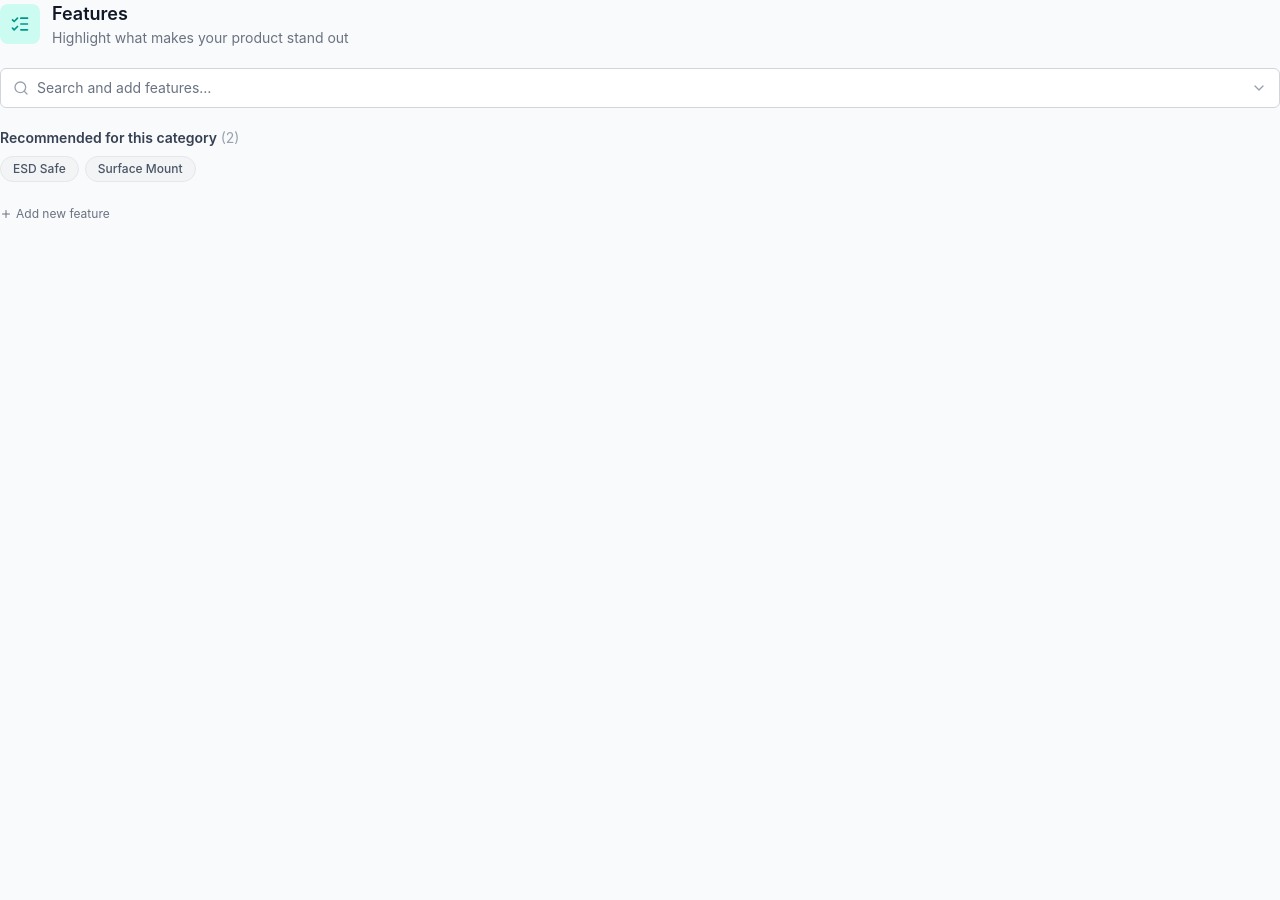
FeaturesStep › searches the full vocabulary in the combobox
Later steps or results of the test are not shown.
Step 1. Click the button "Search and add features…" → (124, 88), box [0,68,1279,108]
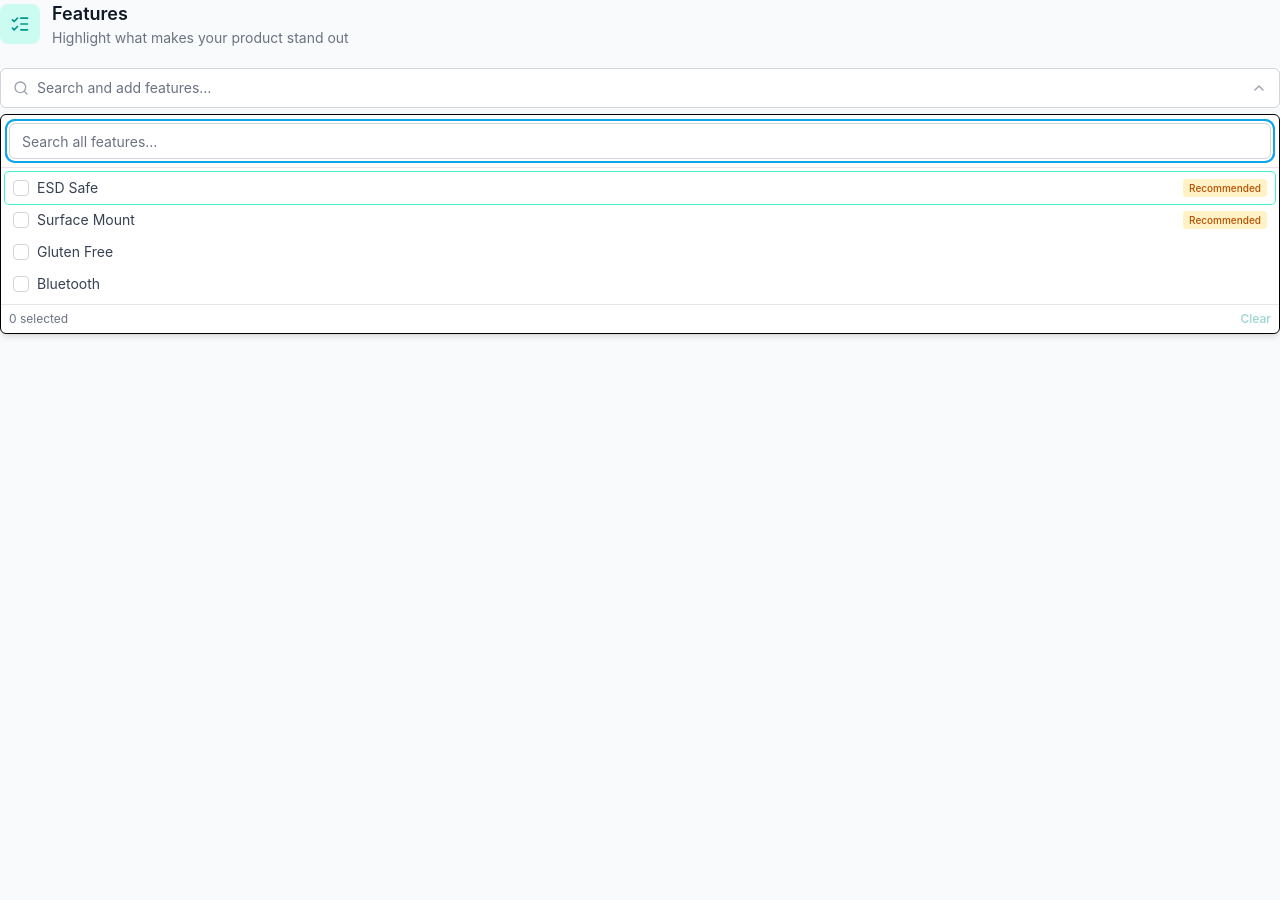
Step 2. Type "gluten" into the field with placeholder "Search all features…" → (640, 141), box [9,123,1271,159]
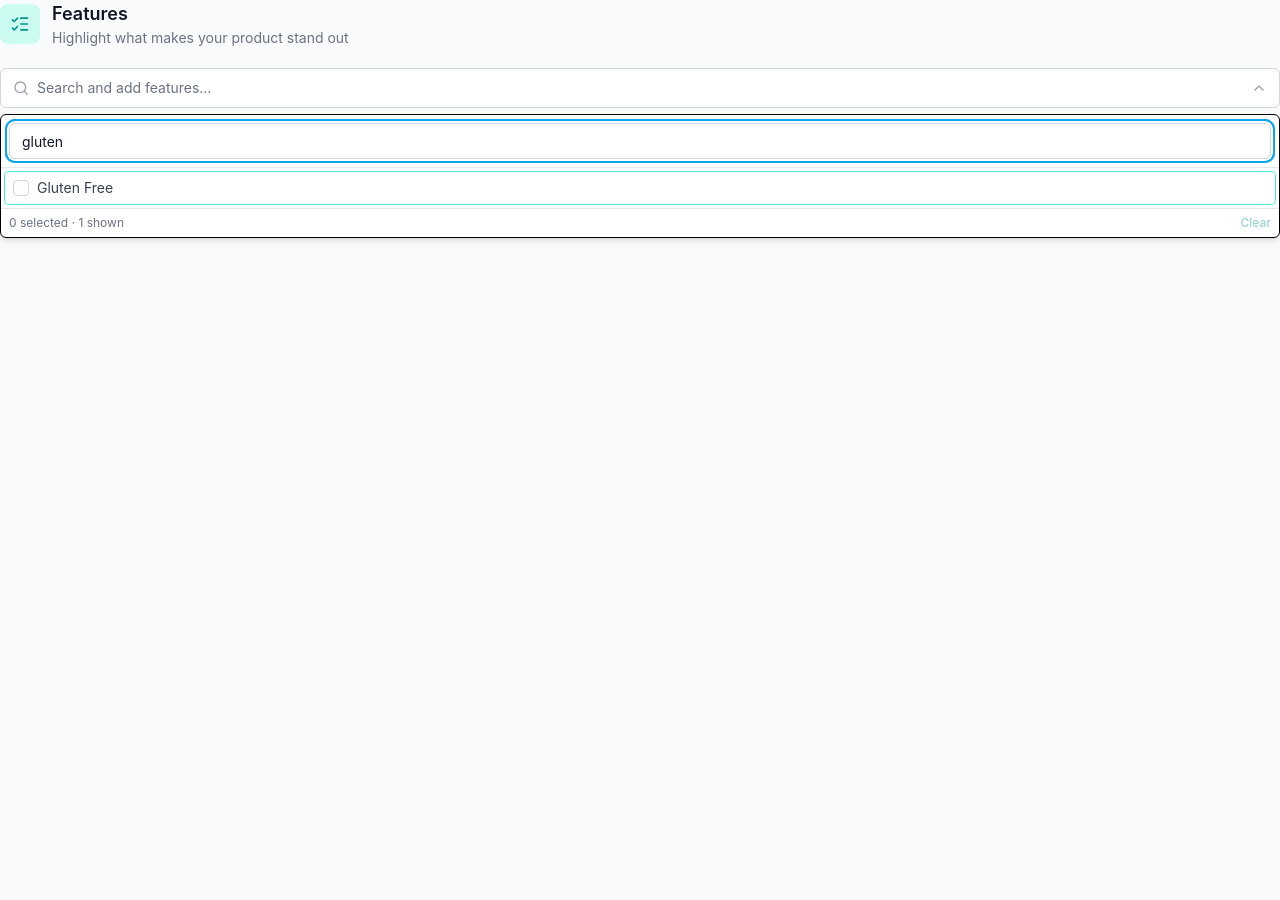
Now the option "Gluten Free" is shown, box [5,172,1275,204]
Now the option "Bluetooth" is gone
